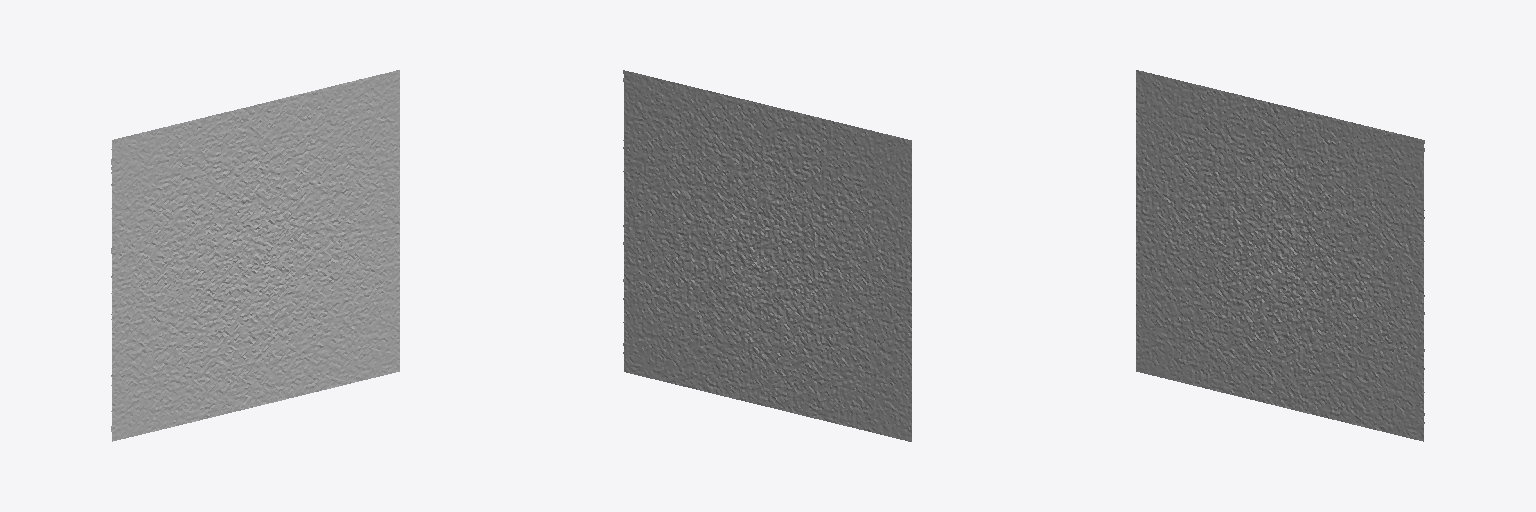
File: plane20x20_wavy.obj
3 renders of one model, left to right at view 1: azimuth 30°, elevation 25°; view 2: azimuth 150°, elevation 25°; view 3: azimuth 330°, elevation 25°, orthographic.
Parts seen in each view (by area): view 1: plane20x20_wavy; view 2: plane20x20_wavy; view 3: plane20x20_wavy.
Boxes of the visible parts, box(x1,y1,x2,y2) form: plane20x20_wavy: box(111, 70, 399, 441); plane20x20_wavy: box(623, 70, 911, 441); plane20x20_wavy: box(1136, 70, 1424, 441).
Bounding box in the file's own units: 20 × 20 × 0.086.